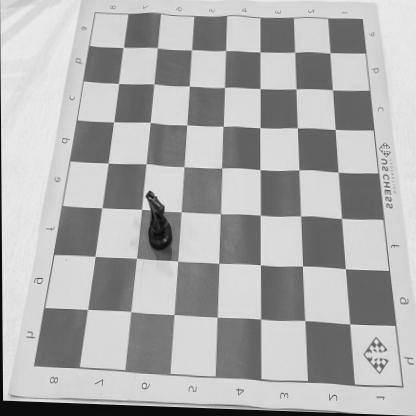black-knight: (146, 192, 172, 254)
